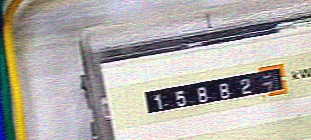1: (151, 93, 164, 112)
2: (238, 77, 251, 96)
5: (172, 90, 186, 108)
7: (260, 80, 273, 94)
8: (195, 85, 208, 104), (217, 82, 229, 100)
screen: (135, 60, 294, 120)
